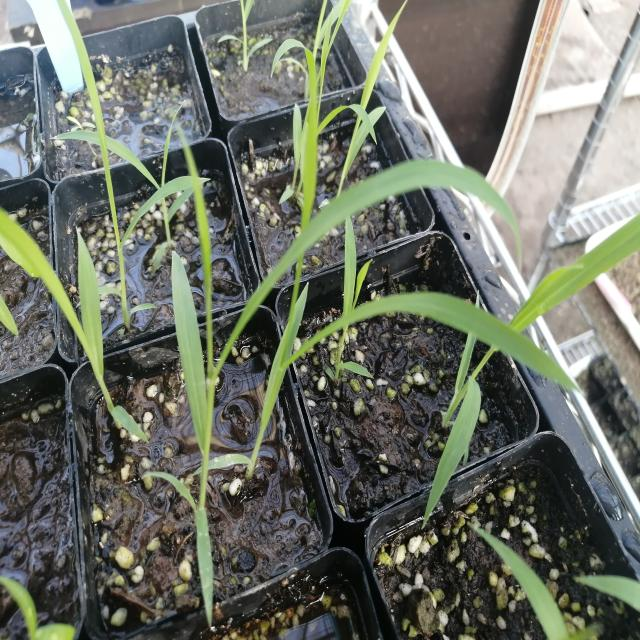crabgrass: (159, 71, 517, 552), (437, 192, 637, 478), (0, 215, 154, 443)
